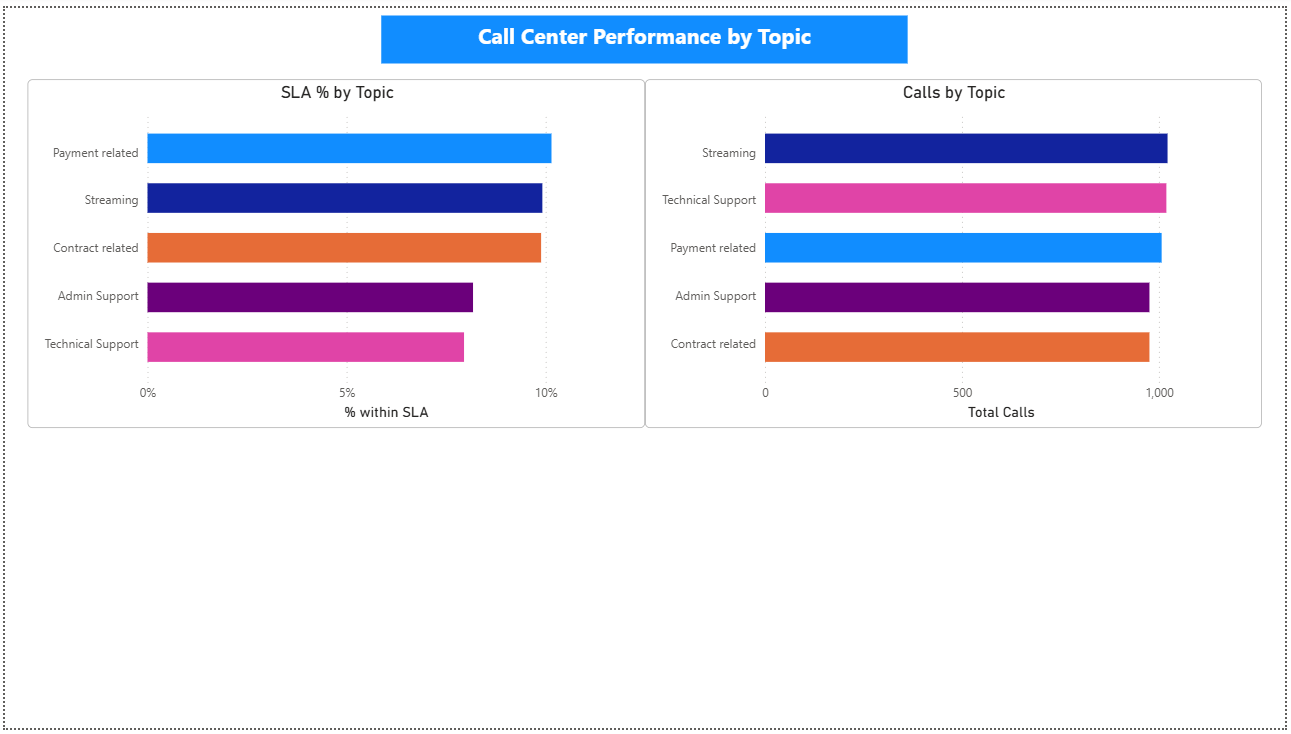

This screenshot's page, from the dashboard's own definition file:
{"tool":"powerbi","page":{"name":"Topical Analysis","canvas":[1280,720],"ordinal":1},"visuals":[{"type":"clusteredBarChart","title":"SLA % by Topic","fields":{"Category":["CallLog.Topic"],"Y":["CallLog.SLA %"],"Series":["CallLog.Topic"]},"box":[22.2,71.1,617.8,348.9],"z":0},{"type":"textbox","box":[376.7,7.8,526.7,47.8],"z":1000},{"type":"clusteredBarChart","title":"Calls by Topic","fields":{"Category":["CallLog.Topic"],"Y":["CallLog.Total Calls"],"Series":["CallLog.Topic"]},"box":[640,71.1,616.7,348.9],"z":2000}]}

Visuals, with their boxes in screenshot pixels (x1, y1, x2, y2), scaled from the page's 1280x720 canvas onto the 1291x734 screenshot:
"SLA % by Topic" clusteredBarChart: 22,72,646,428
textbox: 380,8,911,57
"Calls by Topic" clusteredBarChart: 646,72,1267,428
